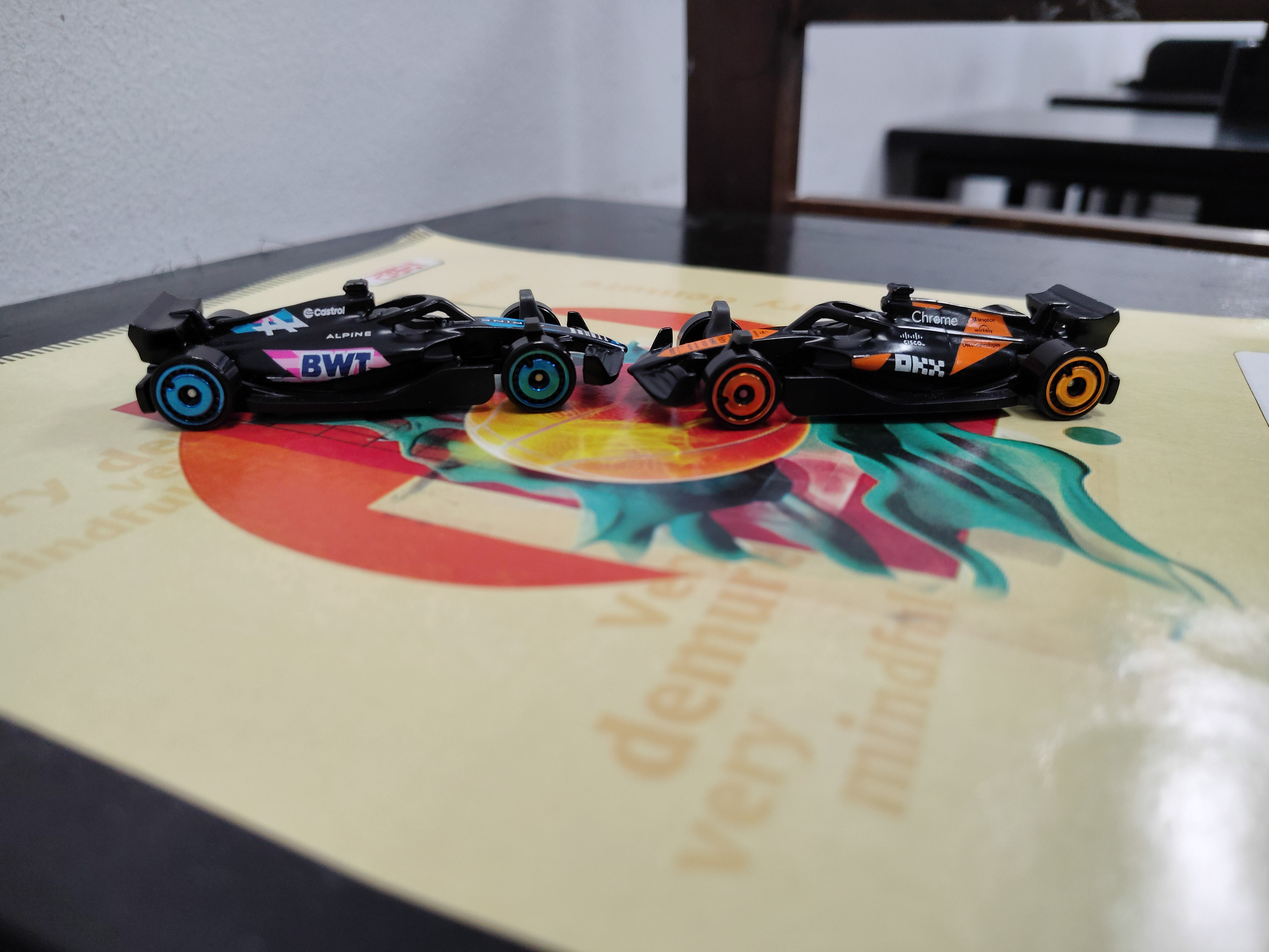Alpine A524: (116, 177, 632, 443)
McLaren MCL40: (589, 232, 1269, 440)
